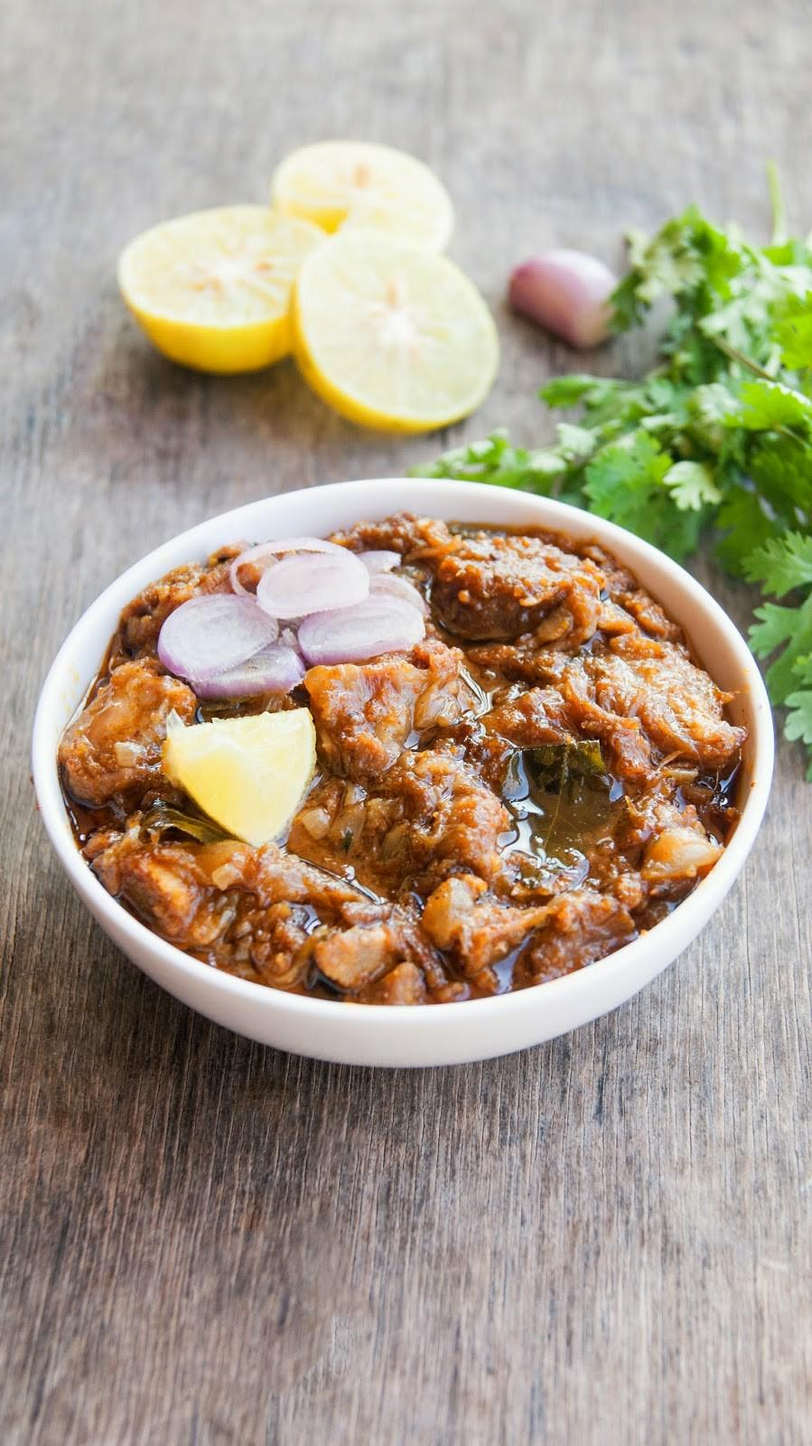MuttonCurry: (58, 505, 750, 1006)
